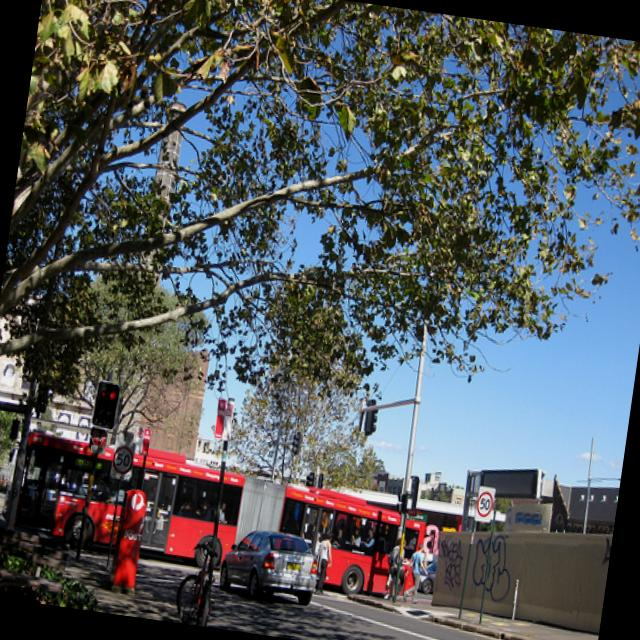Vehicle: (12, 370, 442, 606), (215, 525, 322, 607), (416, 559, 438, 599)
